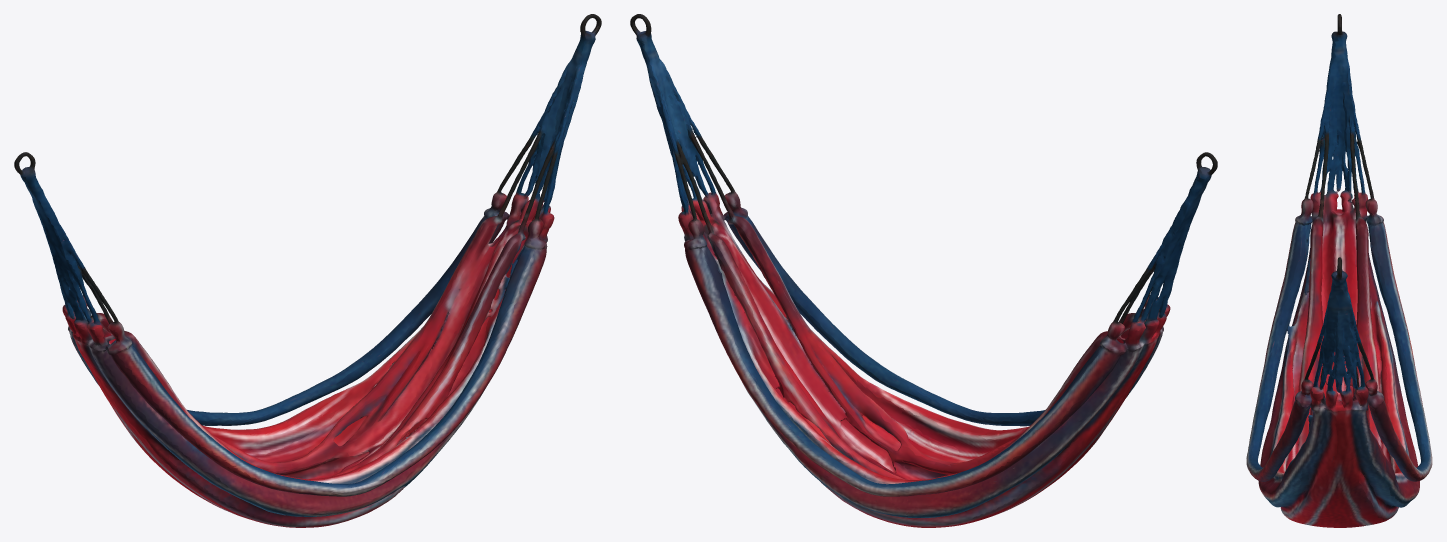
File: item_46e7433c.glb
3 renders of one model, left to right at view 1: azimuth 30°, elevation 25°; view 2: azimuth 150°, elevation 25°; view 3: azimuth 270°, elevation 25°, orthographic. The views are drawn at different scales.
Visible parts, largest first — view 1: world; view 2: world; view 3: world.
Boxes of the visible parts, box(x1,y1,x2,y2) form: world: box(14, 14, 601, 527); world: box(630, 14, 1217, 527); world: box(1246, 14, 1432, 527).
Bounding box in the file's own units: 2.8 × 1.94 × 0.8745.
Materials: 1 (1 with a texture image).
